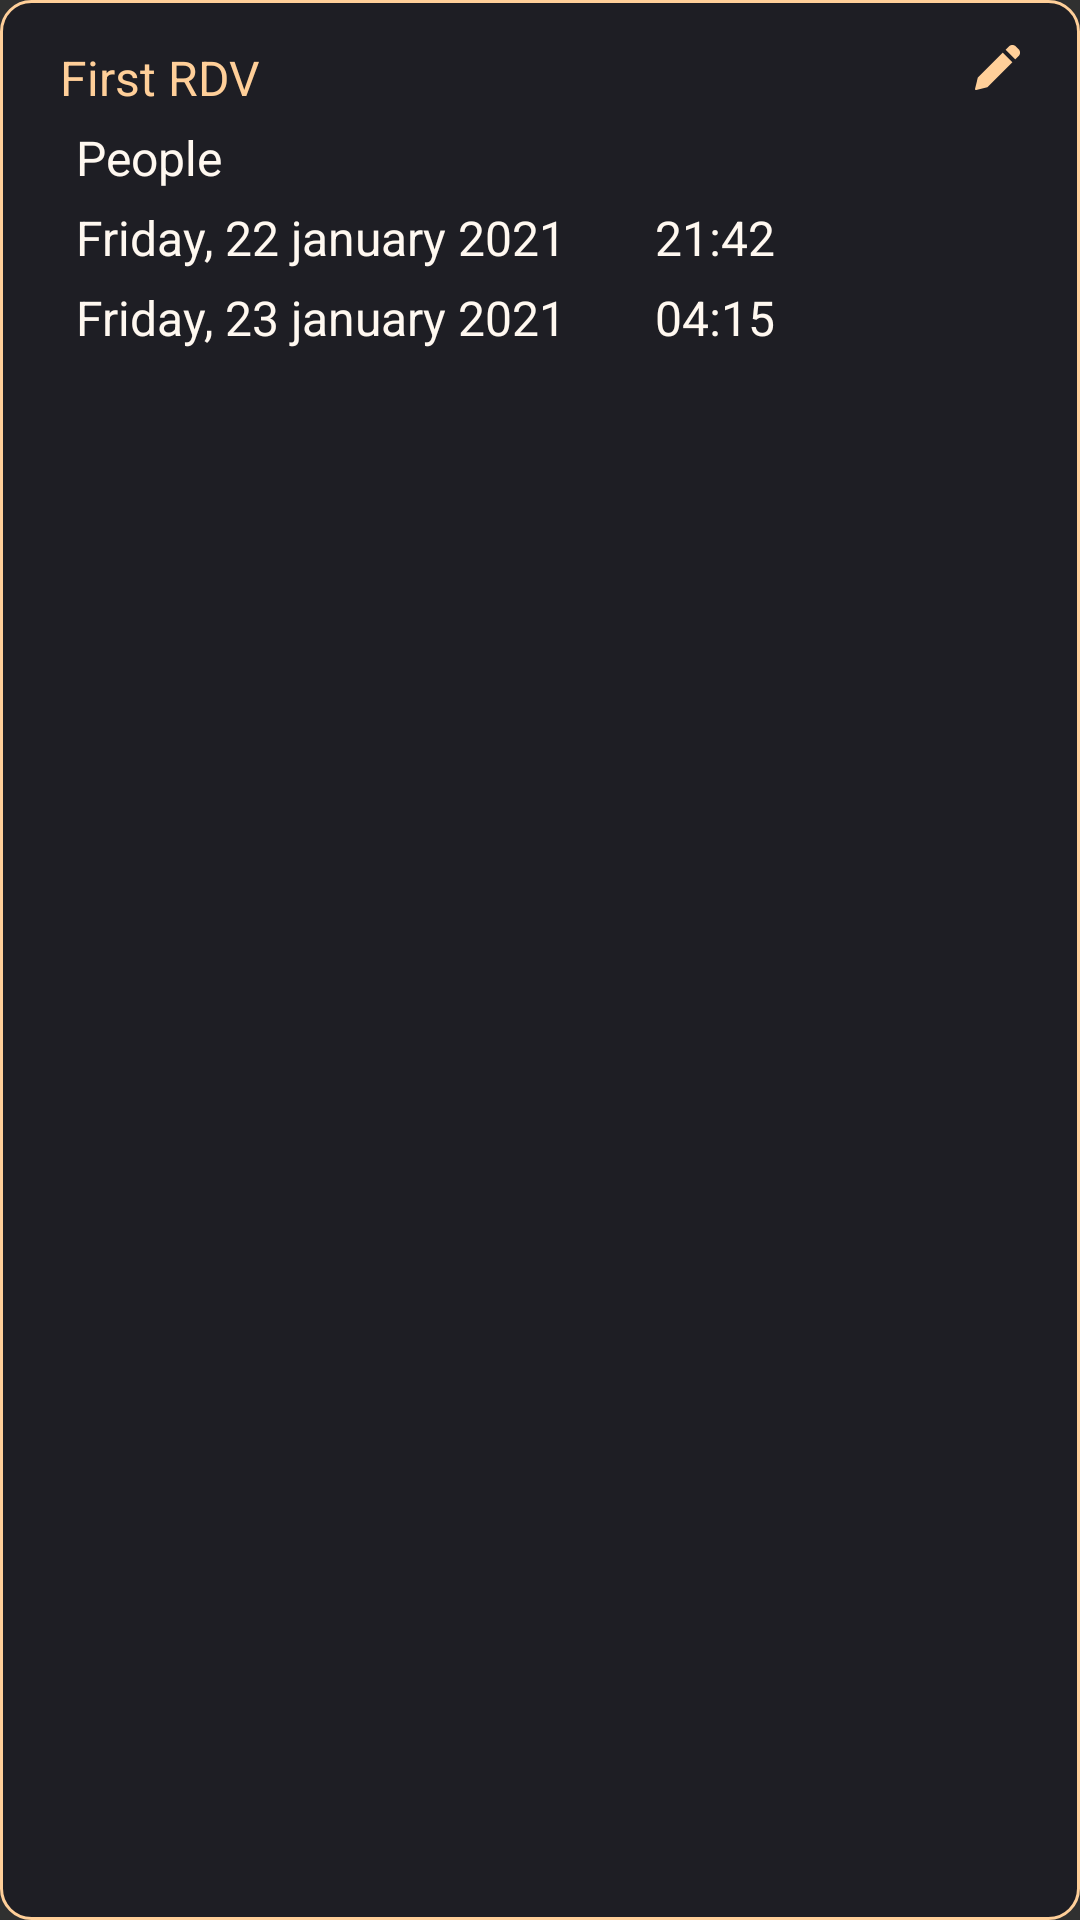

Where to tap for icons on this 1080w x 1920h app screen, as (x=x, y=y):
pencil: (x=997, y=67)
